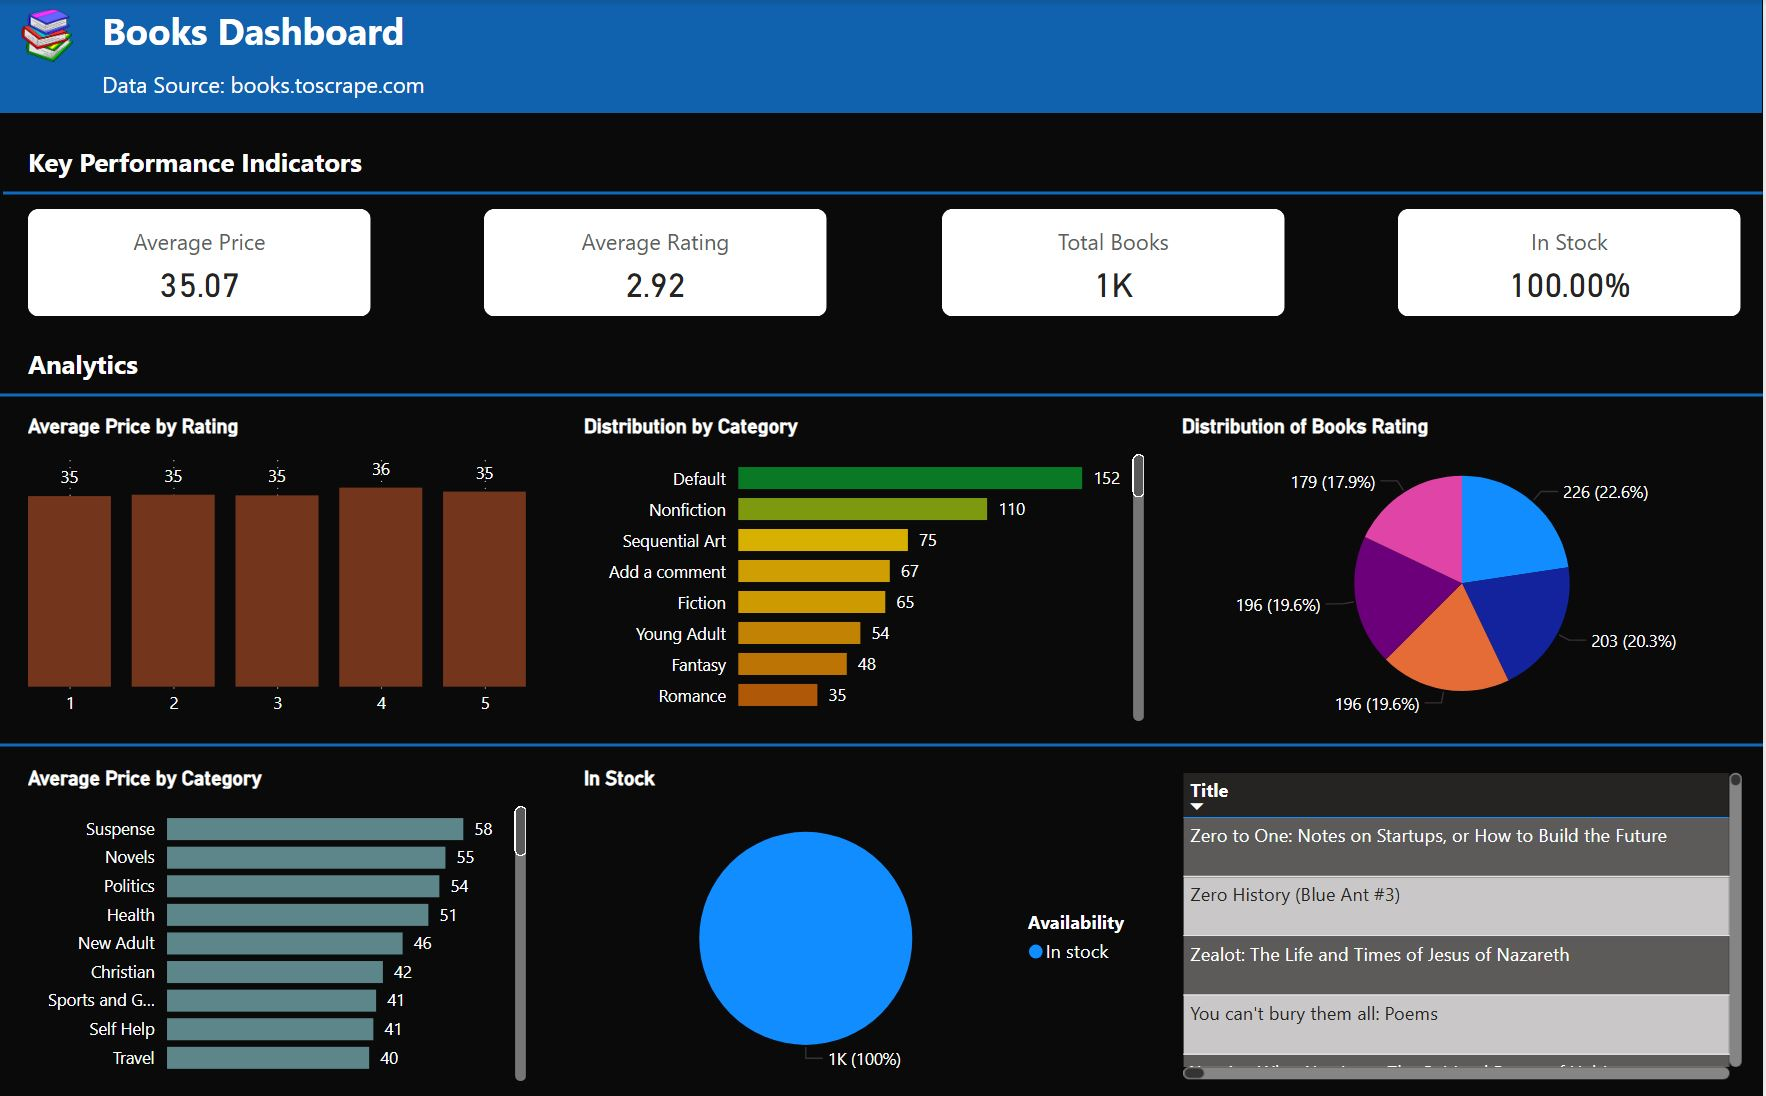

This screenshot's page, from the dashboard's own definition file:
{"tool":"powerbi","page":{"name":"Dashboard","canvas":[1280,800],"ordinal":0},"visuals":[{"type":"pieChart","title":"In Stock","fields":{"Category":["books_data.Availability"],"Y":["CountNonNull(books_data.Title)"]},"box":[419.6,557.5,418.1,233.8],"z":0},{"type":"clusteredBarChart","title":"Distribution by Category","fields":{"Category":["books_data.Category"],"Y":["CountNonNull(books_data.Title)"]},"box":[419.6,302,416.7,227.9],"z":1000},{"type":"clusteredBarChart","title":"Average Price by Category","fields":{"Category":["books_data.Category"],"Y":["Avg(books_data.Price (£))"]},"box":[16,557.5,371.7,233.8],"z":2000},{"type":"pieChart","title":"Distribution of Books Rating","fields":{"Category":["books_data.Rating"],"Y":["CountNonNull(books_data.Title)"]},"box":[853.7,302,416.7,229.4],"z":3000},{"type":"clusteredColumnChart","title":"Average Price by Rating","fields":{"Category":["books_data.Rating"],"Y":["Avg(books_data.Price (£))"]},"box":[16,302,371.7,227.9],"z":4000},{"type":"shape","box":[0,0,1280,83.4],"z":5000},{"type":"textbox","box":[69.8,0,288.2,48.5],"z":6000},{"type":"image","box":[0,3,69.8,48.5],"z":7000},{"type":"textbox","box":[69.8,47,280.6,36.4],"z":8000},{"type":"textbox","box":[16,101.6,288.9,46.5],"z":9000},{"type":"cardVisual","fields":{"Data":["Avg(books_data.Price (£))"]},"box":[16,148.1,259.9,88.6],"z":10000},{"type":"cardVisual","fields":{"Data":["Avg(books_data.Rating)"]},"box":[347.5,148.1,259.9,88.6],"z":11000},{"type":"cardVisual","fields":{"Data":["CountNonNull(books_data.Title)"]},"box":[679,148.1,259.9,88.6],"z":12000},{"type":"cardVisual","fields":{"Data":["books_data.In Stock"]},"box":[1010.5,148.1,259.9,88.6],"z":13000},{"type":"textbox","box":[16,248.3,259.9,34.8],"z":14000},{"type":"tableEx","fields":{"Values":["books_data.Title","books_data.Price (£)","books_data.Rating","books_data.Availability","books_data.Category","books_data.Description"]},"box":[853.7,557.5,416.7,232.3],"z":15000},{"type":"shape","box":[2.3,130.7,1277.7,21.8],"z":16000},{"type":"shape","box":[0,277.3,1280.6,21.8],"z":17000},{"type":"shape","box":[0,531.4,1280.6,21.8],"z":17001}]}

Visuals, with their boxes in screenshot pixels (x1, y1, x2, y2), scaled from the page's 1280x800 canvas onto the 1766x1096 screenshot:
"In Stock" pieChart: box(579, 764, 1156, 1084)
"Distribution by Category" clusteredBarChart: box(579, 414, 1154, 726)
"Average Price by Category" clusteredBarChart: box(22, 764, 535, 1084)
"Distribution of Books Rating" pieChart: box(1178, 414, 1753, 728)
"Average Price by Rating" clusteredColumnChart: box(22, 414, 535, 726)
shape: box(0, 0, 1765, 114)
textbox: box(96, 0, 494, 66)
image: box(0, 4, 96, 71)
textbox: box(96, 64, 483, 114)
textbox: box(22, 139, 421, 203)
cardVisual - Avg(books_data.Price (£)): box(22, 203, 381, 324)
cardVisual - Avg(books_data.Rating): box(479, 203, 838, 324)
cardVisual - CountNonNull(books_data.Title): box(937, 203, 1295, 324)
cardVisual - books_data.In Stock: box(1394, 203, 1753, 324)
textbox: box(22, 340, 381, 388)
tableEx - books_data.Title x books_data.Price (£): box(1178, 764, 1753, 1082)
shape: box(3, 179, 1765, 209)
shape: box(0, 380, 1765, 410)
shape: box(0, 728, 1765, 758)
